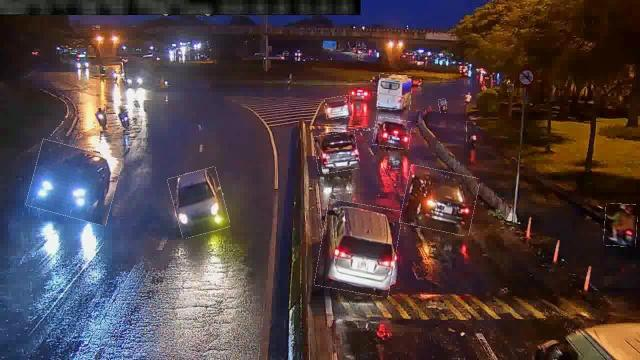Bike: (604, 204, 638, 246), (117, 106, 131, 130), (94, 108, 108, 132), (467, 121, 479, 142), (439, 99, 447, 113)
Bus: (378, 74, 412, 109)
Car: (317, 202, 399, 294), (30, 143, 119, 221), (402, 168, 478, 232), (171, 170, 227, 236), (315, 132, 359, 172), (373, 118, 411, 148), (324, 96, 352, 120)
